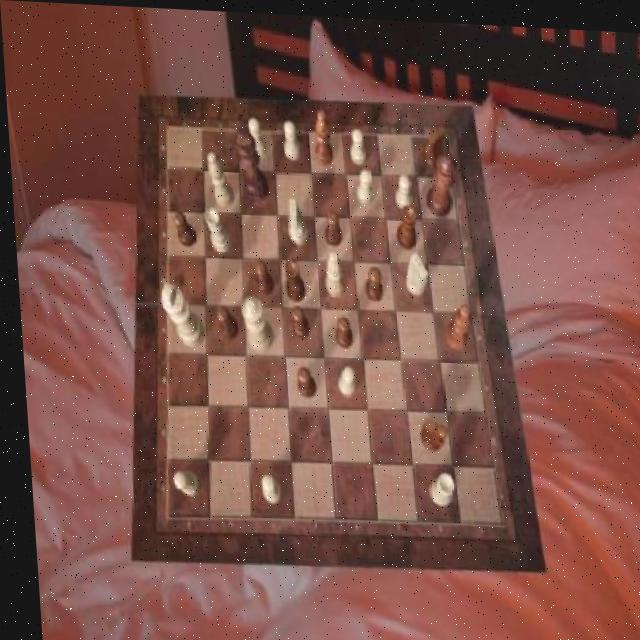bishop: (441, 299, 468, 344), (311, 106, 332, 161)
black-bishop: (234, 125, 268, 200)
black-king: (419, 120, 446, 167), (413, 416, 442, 449)
black-knight: (169, 210, 193, 245), (212, 304, 234, 338), (252, 257, 271, 293), (321, 207, 340, 243), (291, 365, 312, 396), (361, 263, 379, 299), (288, 302, 307, 336), (331, 313, 350, 346)
black-pawn: (422, 146, 459, 214)
black-queen: (393, 200, 416, 247), (280, 255, 303, 300)
black-rook: (206, 150, 233, 205), (320, 247, 342, 293)
white-bishop: (156, 281, 200, 347)
white-king: (402, 248, 427, 292), (284, 196, 306, 242)
white-knight: (247, 114, 266, 155), (167, 469, 195, 496), (281, 119, 299, 158), (347, 126, 365, 163), (354, 165, 373, 200), (255, 473, 277, 501), (393, 170, 410, 206), (332, 362, 351, 393)
white-pawn: (236, 294, 269, 351)
white-queen: (203, 206, 229, 251), (422, 467, 450, 502)
